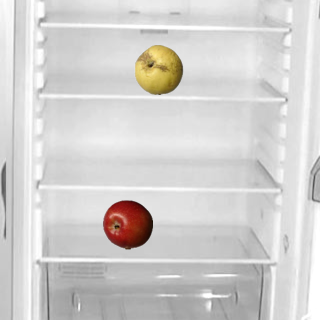Apple Braeburn: (102, 199, 152, 249)
Apple Golden 1: (133, 44, 183, 94)
